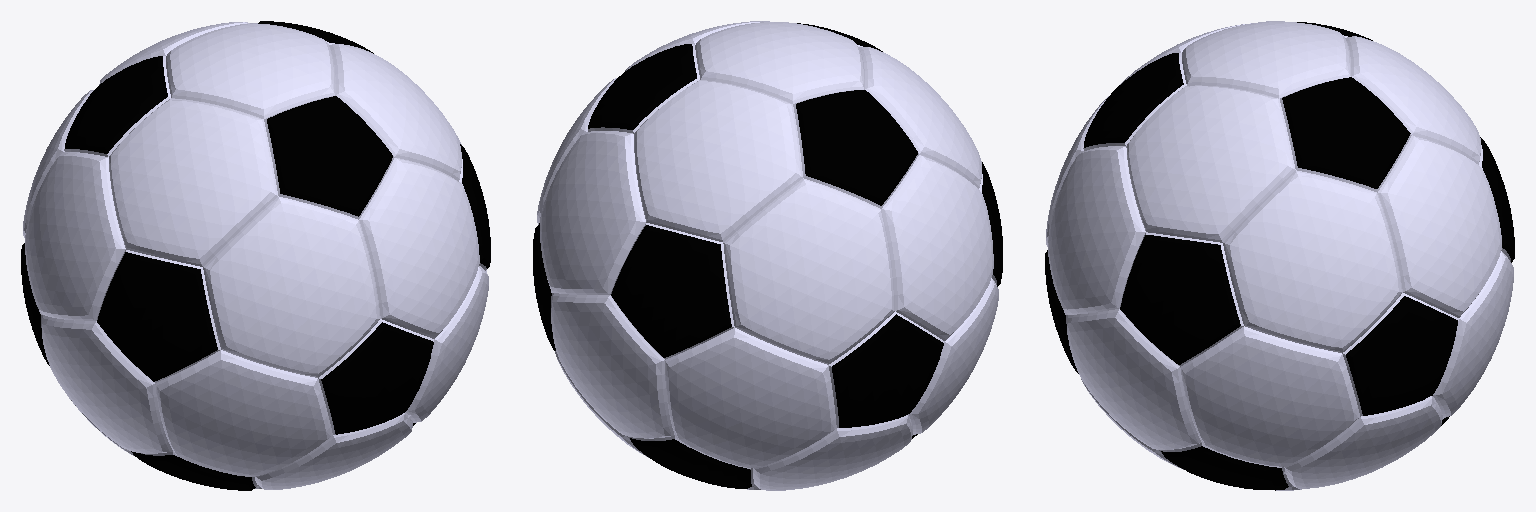
Rendered from ballonFoot.obj.
3 views of the same model, side by side, from view 1: azimuth 30°, elevation 25°; view 2: azimuth 150°, elevation 25°; view 3: azimuth 270°, elevation 25° (orthographic).
Parts seen in each view (by area): view 1: ballonFoot; view 2: ballonFoot; view 3: ballonFoot.
Boxes of the visible parts, x1,y1,x2,y2 form: ballonFoot: [21, 21, 490, 490]; ballonFoot: [533, 21, 1002, 490]; ballonFoot: [1045, 21, 1514, 490].
Size of the model in its own units: 2.2 by 2.2 by 2.2.